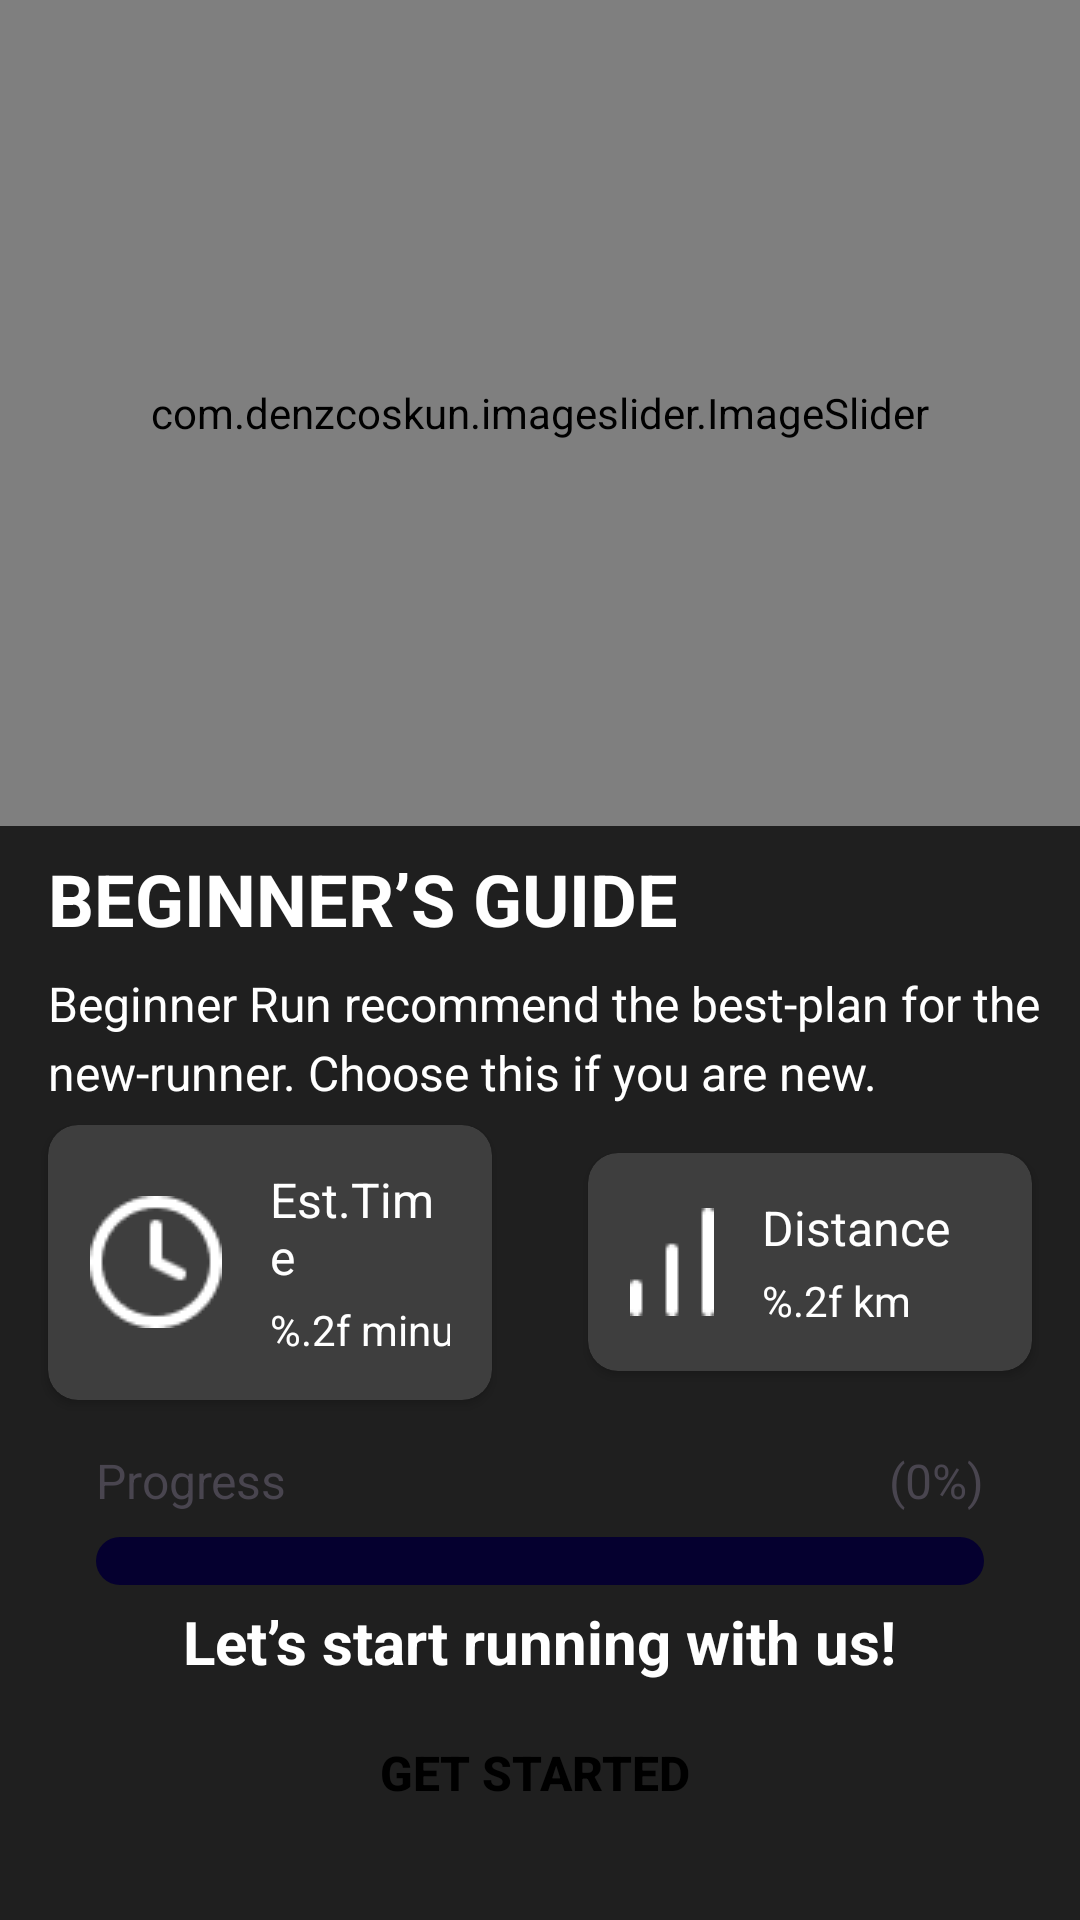

Icon click points for this 1080*1920 phone screenshot, format point (x, y):
clock: point (156, 1262)
plan chart: point (672, 1262)
